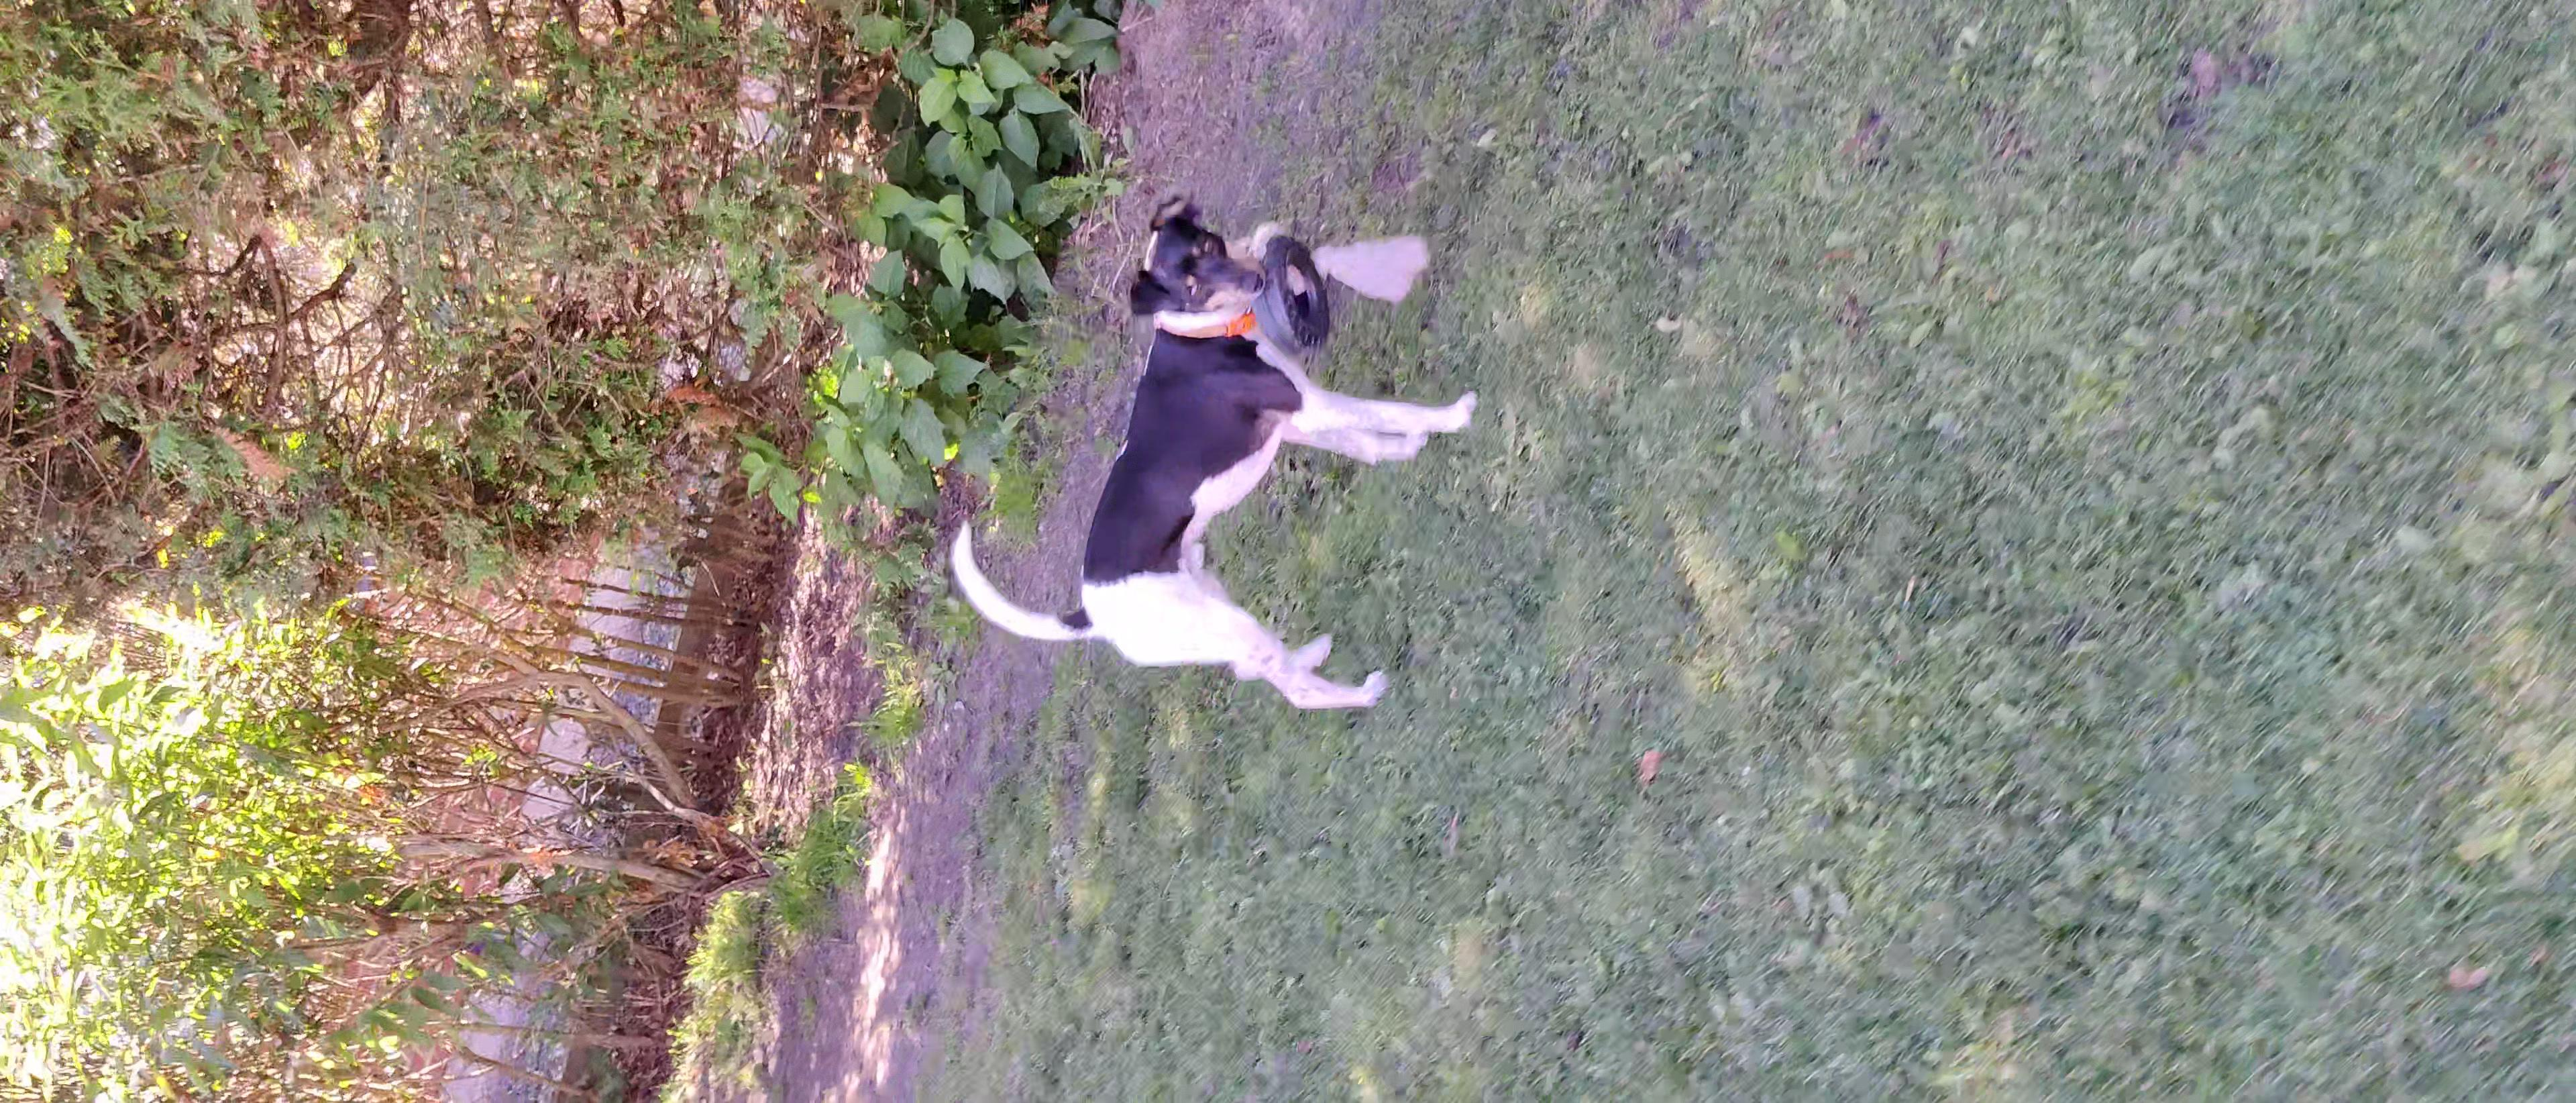Dog: (945, 181, 1482, 720)
